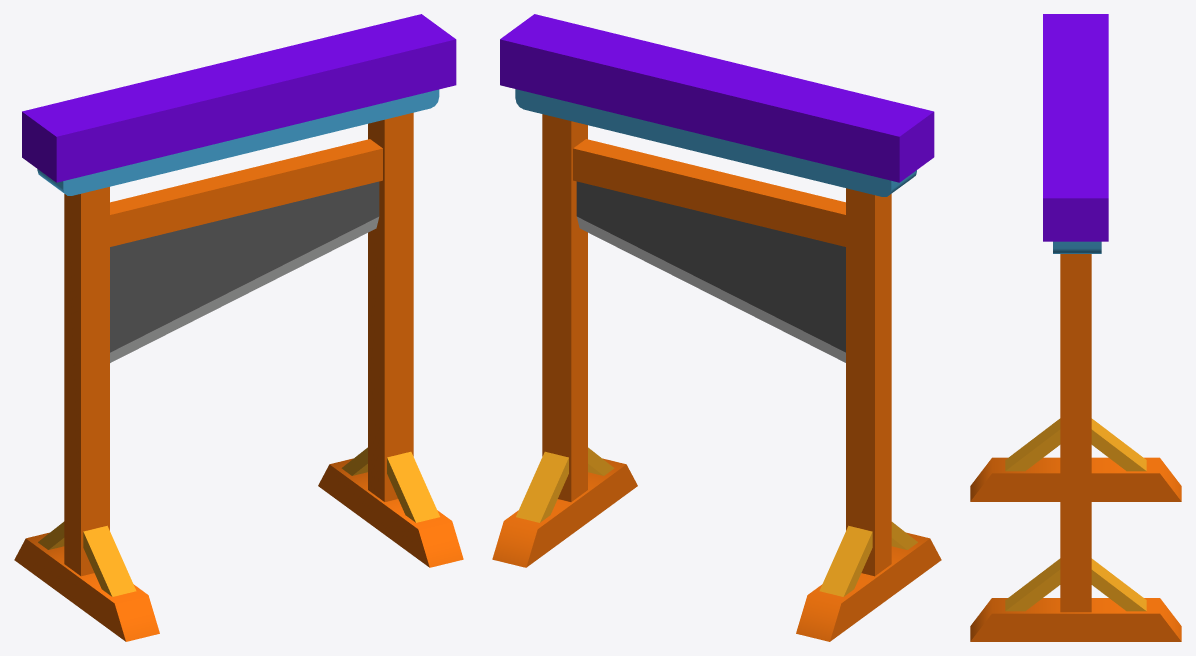
The model's file is Guillotine_01.fbx.
3 renders of one model, left to right at view 1: azimuth 30°, elevation 25°; view 2: azimuth 150°, elevation 25°; view 3: azimuth 270°, elevation 25°, orthographic. The views are drawn at different scales.
Visible parts, largest first — view 1: Obstacle_Guillotine_01, Obstacle_Guillotine_01_Blade; view 2: Obstacle_Guillotine_01, Obstacle_Guillotine_01_Blade; view 3: Obstacle_Guillotine_01.
Part boxes in pixels (bbox=[...]): Obstacle_Guillotine_01: bbox=[14, 14, 463, 641]; Obstacle_Guillotine_01_Blade: bbox=[110, 181, 379, 362]; Obstacle_Guillotine_01: bbox=[492, 14, 941, 641]; Obstacle_Guillotine_01_Blade: bbox=[576, 181, 845, 362]; Obstacle_Guillotine_01: bbox=[970, 14, 1181, 641].
Bounding box in the file's own units: 434 × 503 × 211.
Materials: 1 (1 with a texture image).
